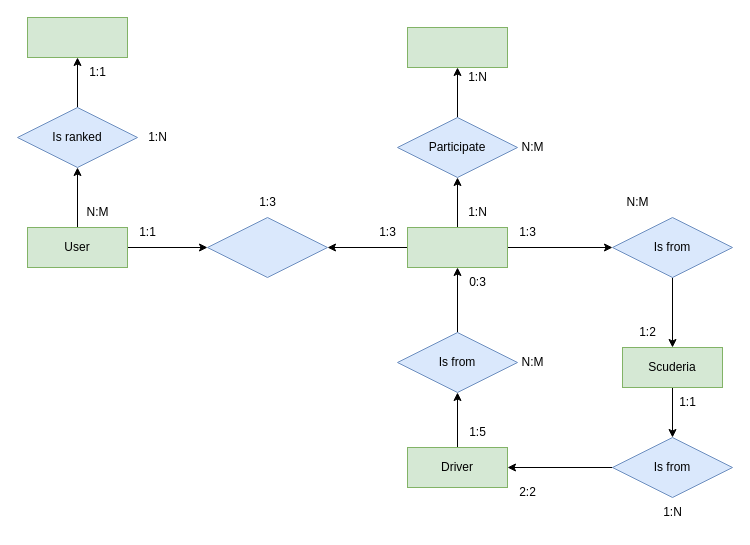
The diagram is 750 pixels wide and 545 high, and some of its shapes have lost their labels. The shapes that lost their labels are listed below. From the top down, each one's centre as x and y in pixels, then its label:
At [77,37]: "Ranking".
At [457,47]: "Race".
At [267,247]: "Create".
At [457,247]: "UserTeam".
